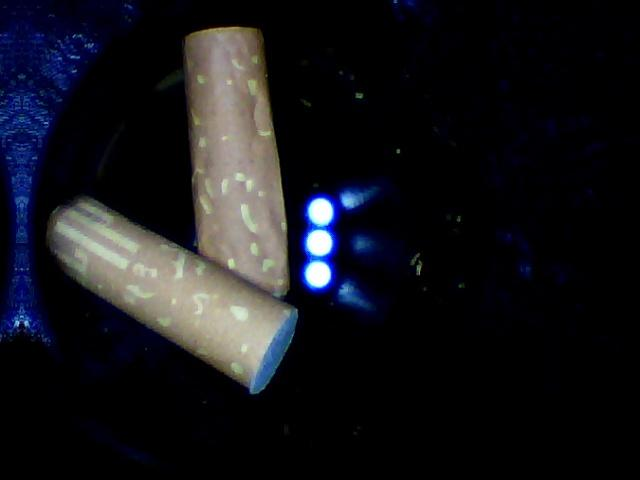megot: (39, 178, 306, 399), (168, 20, 300, 322)
